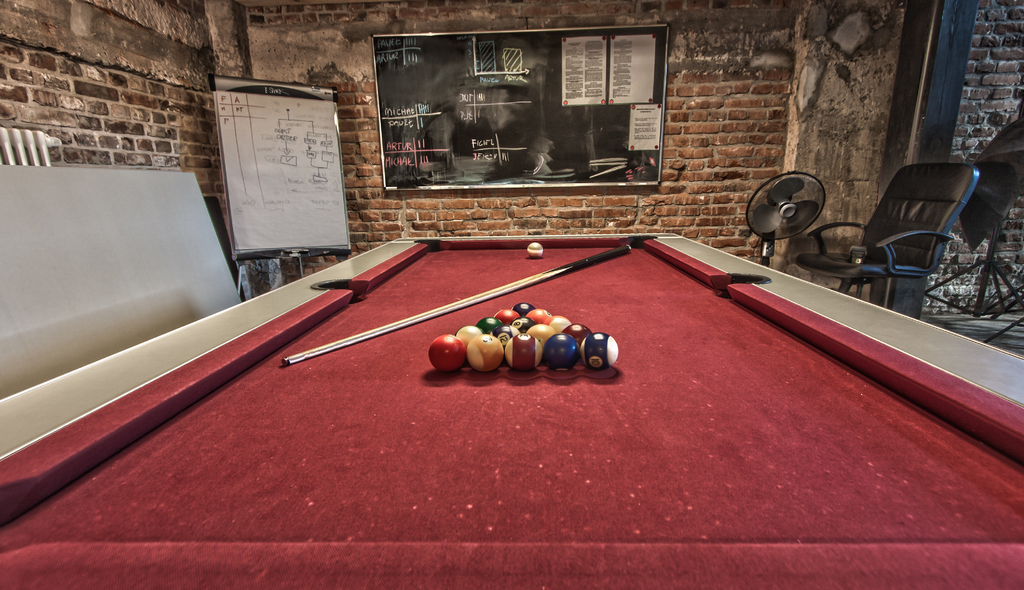Ball: (424, 300, 622, 374), (528, 240, 545, 259)
